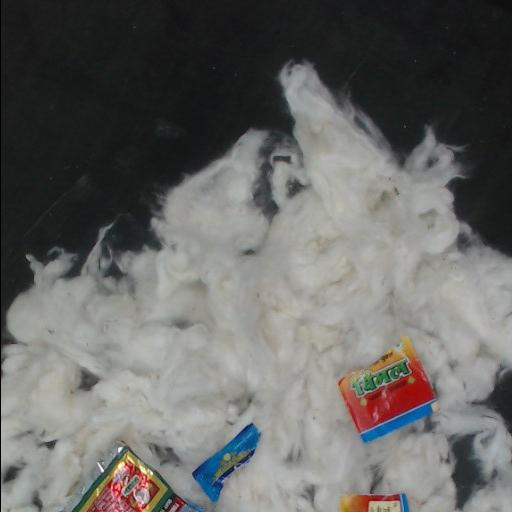conveyor belt: (1, 0, 512, 327), (453, 437, 480, 503), (484, 374, 512, 430)
cotton: (1, 61, 512, 511)
packet: (338, 337, 435, 442), (70, 445, 204, 511), (193, 424, 260, 499), (340, 493, 408, 511)
